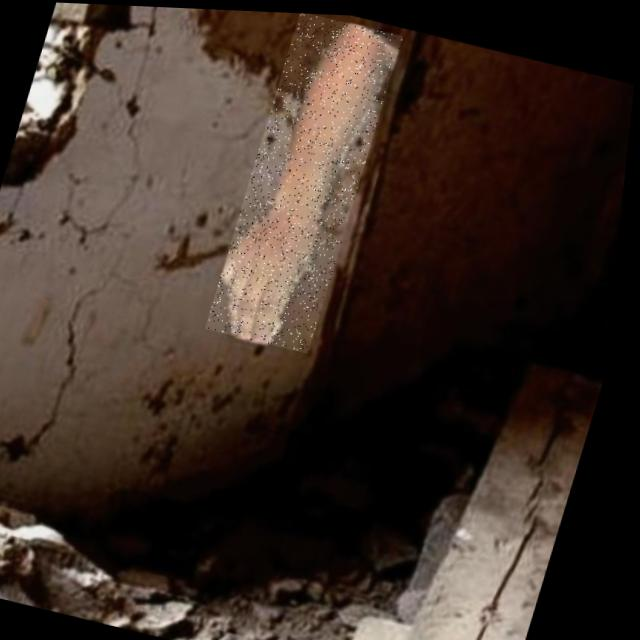Person in Rubble: (210, 8, 405, 352)
